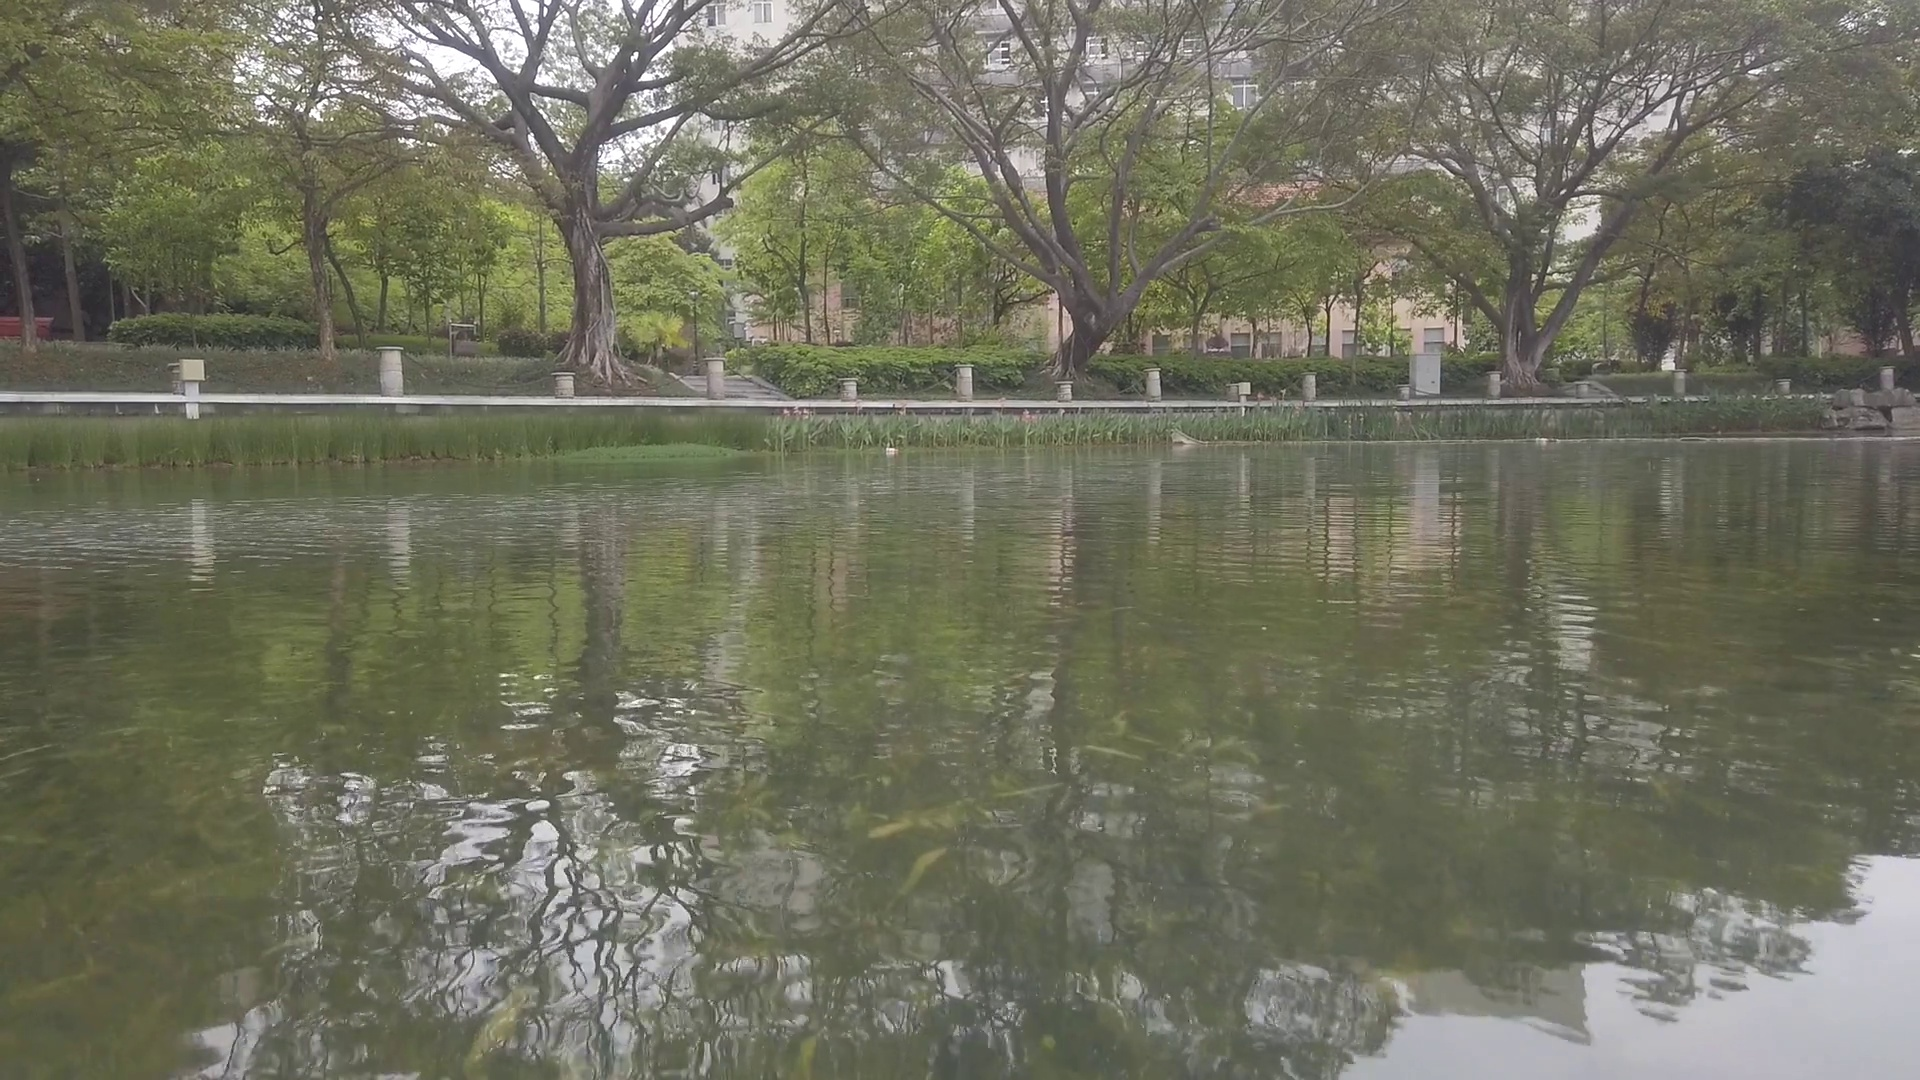bottle: (885, 446, 897, 454), (1538, 439, 1551, 443)
